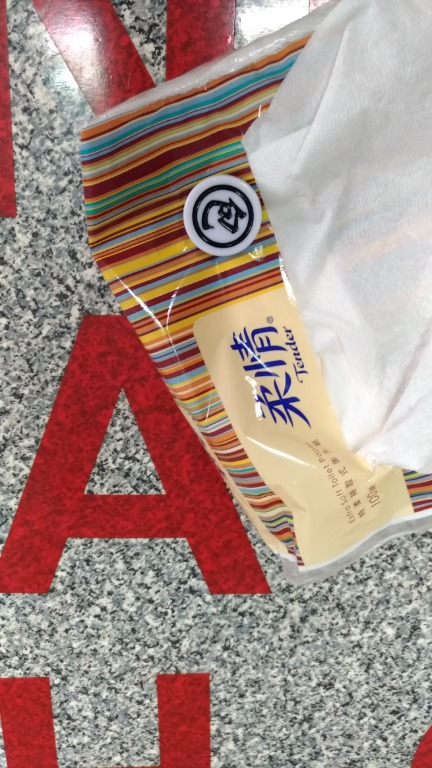b-cannon: (165, 174, 291, 263)
